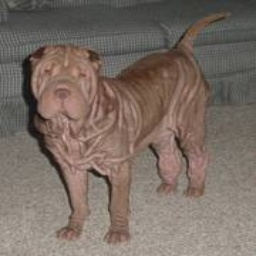dog: (34, 19, 222, 245)
